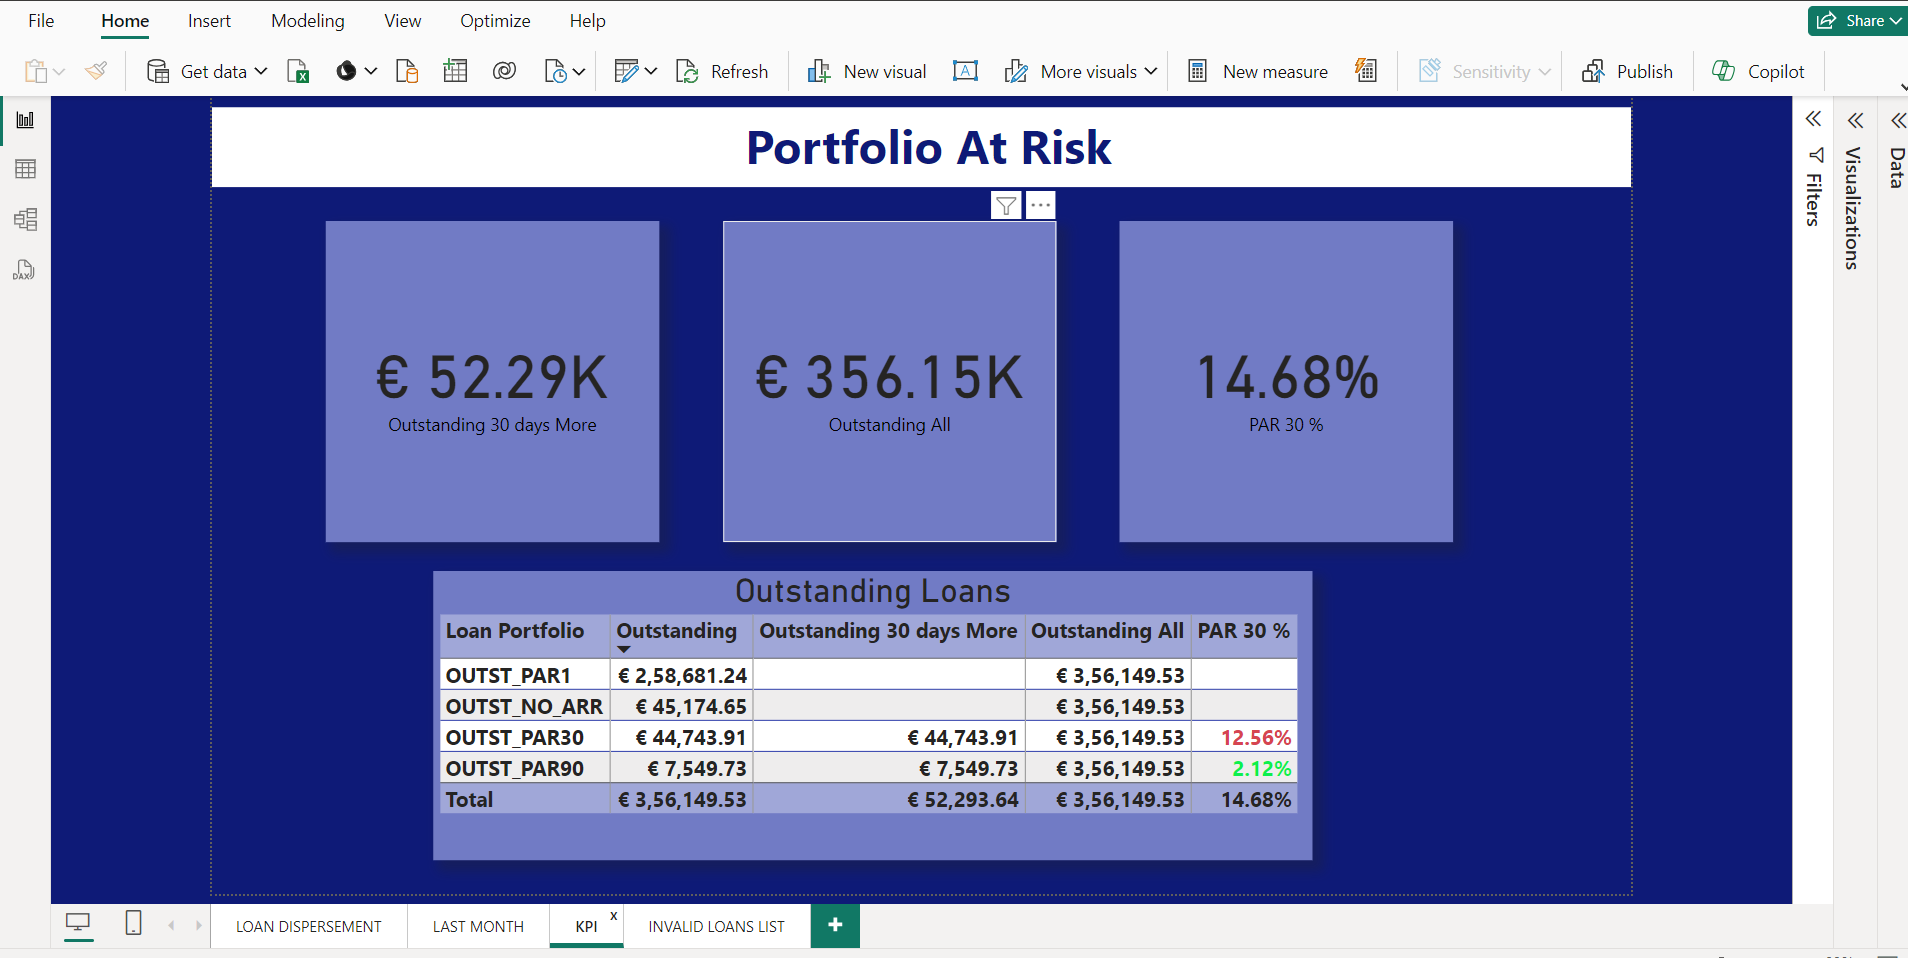

Layout of this report page (visuals, bound fields, positions):
{"tool":"powerbi","page":{"name":"KPI","canvas":[1280,720],"ordinal":2},"visuals":[{"type":"card","fields":{"Values":["Sheet1.Outstanding All"]},"box":[461,112.5,300.8,289.8],"z":0},{"type":"card","fields":{"Values":["Sheet1.Outstanding 30 days More"]},"box":[102.7,112.5,300.8,289.8],"z":1000},{"type":"card","fields":{"Values":["Sheet1.PAR 30 %"]},"box":[818.1,112.5,300.8,289.8],"z":2000},{"type":"tableEx","title":"Outstanding Loans","fields":{"Values":["Sheet1 (2).loan_substatus_key","Sum(Sheet1 (2).principal_amount_outstanding_eur)","Sheet1.Outstanding 30 days More","Sheet1.Outstanding All","Sheet1.PAR 30 %"]},"box":[199,428.1,793.1,260.7],"z":3000},{"type":"textbox","box":[0,9.8,1280.3,72.1],"z":4000}]}

Visuals, with their boxes on the page's 1280x720 design canvas (x1, y1, x2, y2). These are canvas units, not pixel positions in the 1908x958 screenshot, which may show the page scaled, cropped or inside an application window:
card - Sheet1.Outstanding All: left=461, top=112, right=762, bottom=402
card - Sheet1.Outstanding 30 days More: left=103, top=112, right=404, bottom=402
card - Sheet1.PAR 30 %: left=818, top=112, right=1119, bottom=402
"Outstanding Loans" tableEx: left=199, top=428, right=992, bottom=689
textbox: left=0, top=10, right=1280, bottom=82
